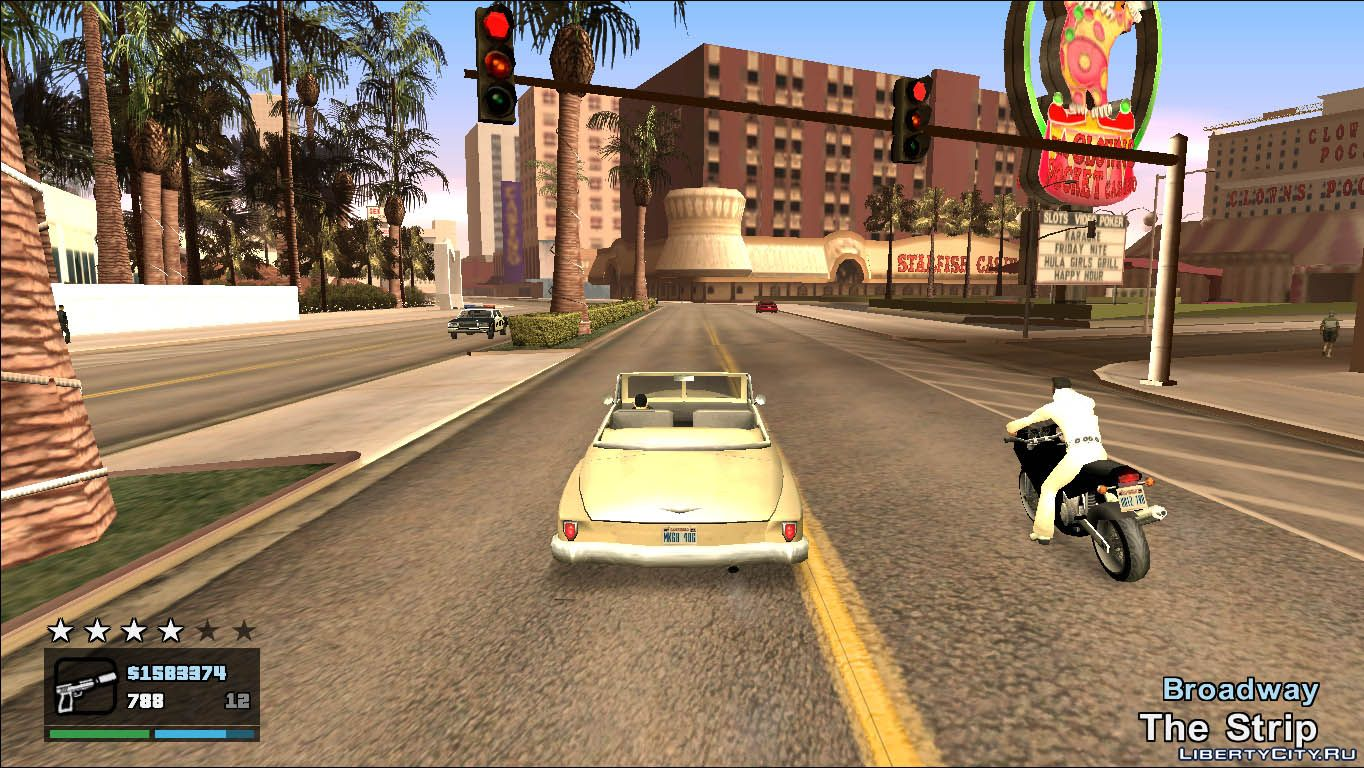bike: (1011, 396, 1165, 580)
car: (571, 371, 813, 582), (447, 302, 501, 345)
